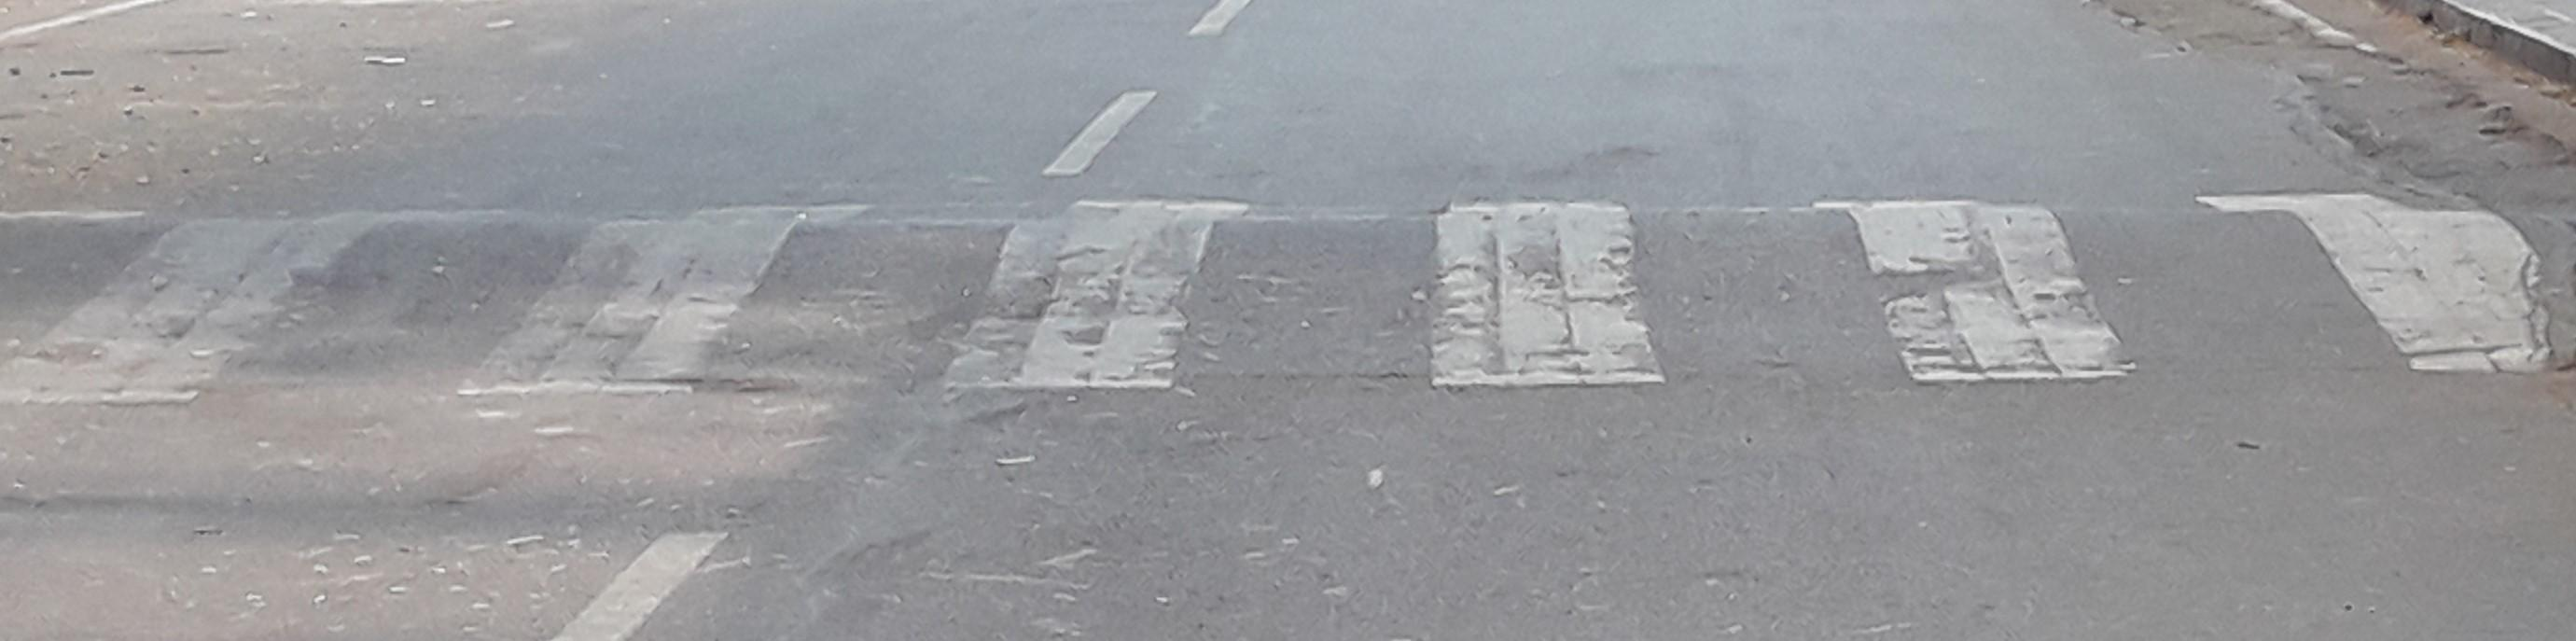speed-bump: (5, 173, 2566, 404)
